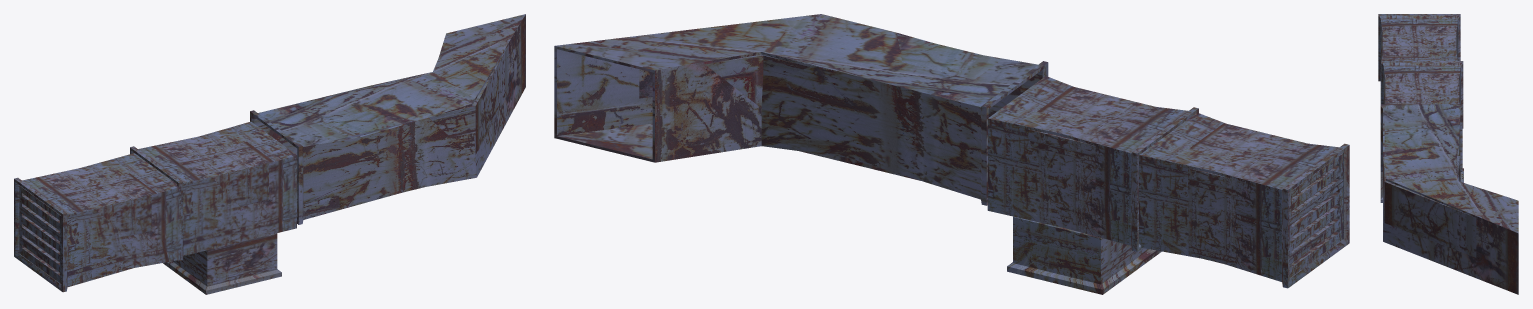
Rendered from ducto.glb.
3 views of the same model, side by side, from view 1: azimuth 30°, elevation 25°; view 2: azimuth 150°, elevation 25°; view 3: azimuth 270°, elevation 25° (orthographic). The views are drawn at different scales.
Parts seen in each view (by area): view 1: Rack_Material.002_0.001; view 2: Rack_Material.002_0.001; view 3: Rack_Material.002_0.001.
Part boxes in pixels (bbox=[...]): Rack_Material.002_0.001: bbox=[14, 14, 525, 294]; Rack_Material.002_0.001: bbox=[554, 14, 1349, 294]; Rack_Material.002_0.001: bbox=[1378, 14, 1518, 294].
Size of the model in its own units: 0.2475 by 0.0543 by 0.0654.
2 materials, 2 textured.
